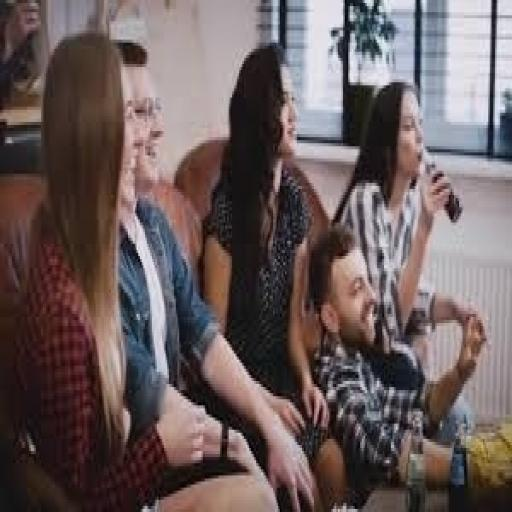sitting: (12, 21, 488, 506), (297, 219, 488, 506)
